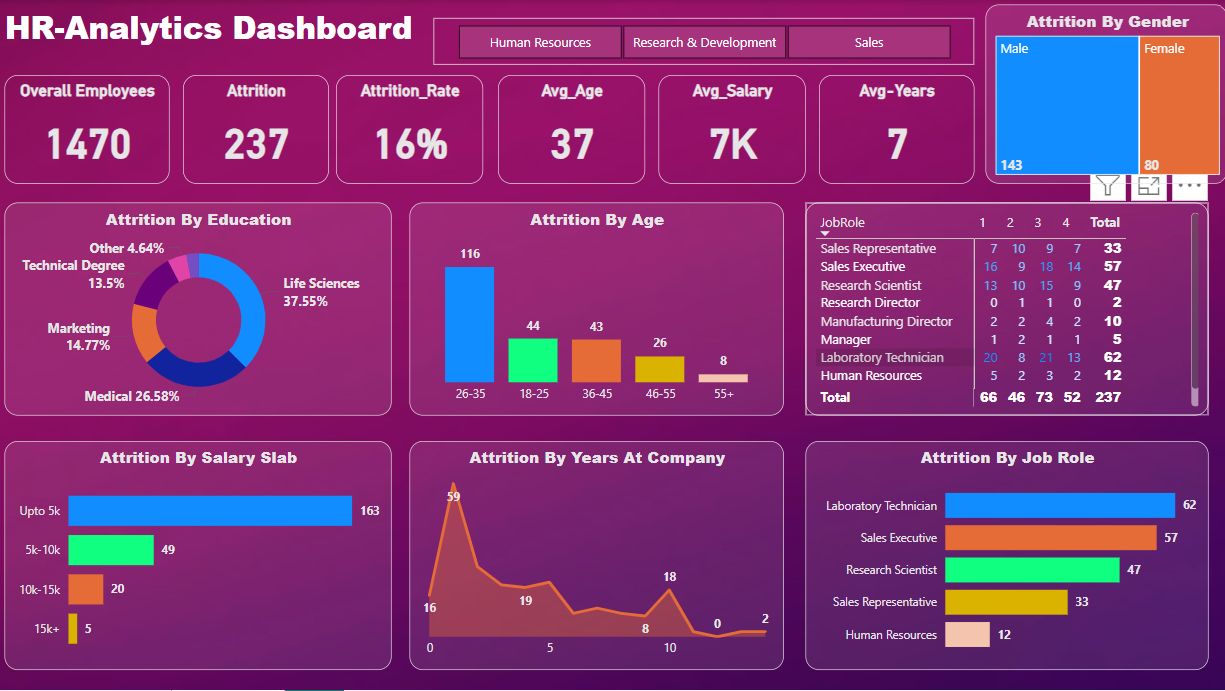

What the dashboard file says about the page in this screenshot:
{"tool":"powerbi","page":{"name":"Page 1","canvas":[1280,720],"ordinal":0},"visuals":[{"type":"card","title":"Overall Employees","fields":{"Values":["CountNonNull(HR_Analytics.EmpID)"]},"box":[5,78.3,171.7,113.3],"z":0},{"type":"card","title":"Attrition","fields":{"Values":["Sum(HR_Analytics.AttritionCount)"]},"box":[190,78.3,151.7,113.3],"z":1000},{"type":"card","title":"Attrition_Rate","fields":{"Values":["HR_Analytics.Attrition_Rate"]},"box":[350,78.3,153.3,113.3],"z":2000},{"type":"card","title":"Avg_Age","fields":{"Values":["Avg(HR_Analytics.Age)"]},"box":[518.3,78.3,153.3,113.3],"z":3000},{"type":"card","title":"Avg_Salary","fields":{"Values":["Avg(HR_Analytics.MonthlyIncome)"]},"box":[686.7,78.3,153.3,113.3],"z":4000},{"type":"card","title":"Avg-Years","fields":{"Values":["Avg(HR_Analytics.YearsAtCompany)"]},"box":[853.3,78.3,161.7,113.3],"z":5000},{"type":"donutChart","title":"Attrition By Education","fields":{"Y":["Sum(HR_Analytics.AttritionCount)"],"Category":["HR_Analytics.EducationField"]},"box":[5,211.7,403.3,221.7],"z":6000},{"type":"columnChart","title":"Attrition By Age","fields":{"Category":["HR_Analytics.AgeGroup"],"Y":["Sum(HR_Analytics.AttritionCount)"]},"box":[426.7,211.7,390,221.7],"z":7000},{"type":"pivotTable","fields":{"Rows":["HR_Analytics.JobRole"],"Columns":["HR_Analytics.JobSatisfaction"],"Values":["Sum(HR_Analytics.AttritionCount)"]},"box":[840,211.7,420,221.7],"z":8000},{"type":"barChart","title":"Attrition By Salary Slab","fields":{"Category":["HR_Analytics.SalarySlab"],"Y":["Sum(HR_Analytics.AttritionCount)"]},"box":[5,460,403.3,238.3],"z":9000},{"type":"barChart","title":"Attrition By Job Role","fields":{"Category":["HR_Analytics.JobRole"],"Y":["Sum(HR_Analytics.AttritionCount)"]},"box":[840,460,420,238.3],"z":10000},{"type":"areaChart","title":"Attrition By Years At Company","fields":{"Category":["HR_Analytics.YearsAtCompany"],"Y":["Sum(HR_Analytics.AttritionCount)"]},"box":[426.7,460,390,238.3],"z":11000},{"type":"treemap","title":"Attrition By Gender","fields":{"Group":["HR_Analytics.Gender"],"Values":["Sum(HR_Analytics.AttritionCount)"]},"box":[1026.7,5,253.3,186.7],"z":12000},{"type":"slicer","fields":{"Values":["HR_Analytics.Department"]},"box":[451.7,18.3,563.3,48.3],"z":13000},{"type":"textbox","box":[0,0,451.7,66.7],"z":14000}]}

Visuals, with their boxes in screenshot pixels (x1, y1, x2, y2), scaled from the page's 1280x720 canvas onto the 1225x691 screenshot:
"Overall Employees" card: 5,75,169,184
"Attrition" card: 182,75,327,184
"Attrition_Rate" card: 335,75,482,184
"Avg_Age" card: 496,75,643,184
"Avg_Salary" card: 657,75,804,184
"Avg-Years" card: 817,75,971,184
"Attrition By Education" donutChart: 5,203,391,416
"Attrition By Age" columnChart: 408,203,782,416
pivotTable - HR_Analytics.JobRole x HR_Analytics.JobSatisfaction: 804,203,1206,416
"Attrition By Salary Slab" barChart: 5,441,391,670
"Attrition By Job Role" barChart: 804,441,1206,670
"Attrition By Years At Company" areaChart: 408,441,782,670
"Attrition By Gender" treemap: 983,5,1224,184
slicer - HR_Analytics.Department: 432,18,971,64
textbox: 0,0,432,64
